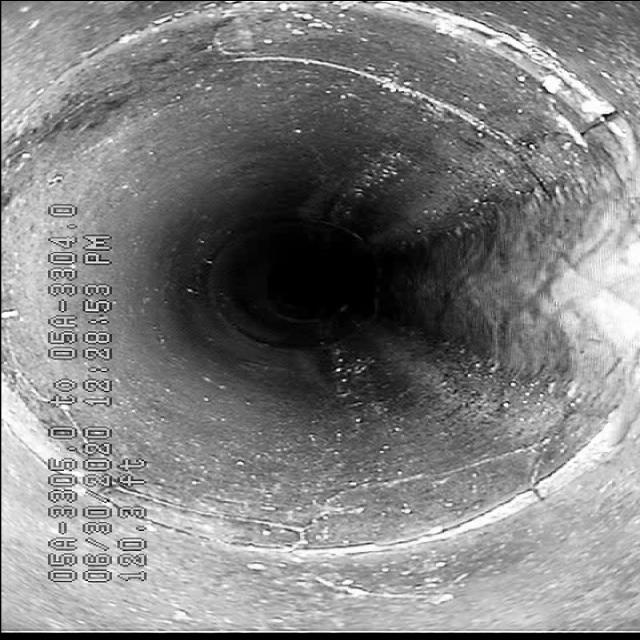Crack: (208, 36, 514, 152), (246, 424, 494, 549)
